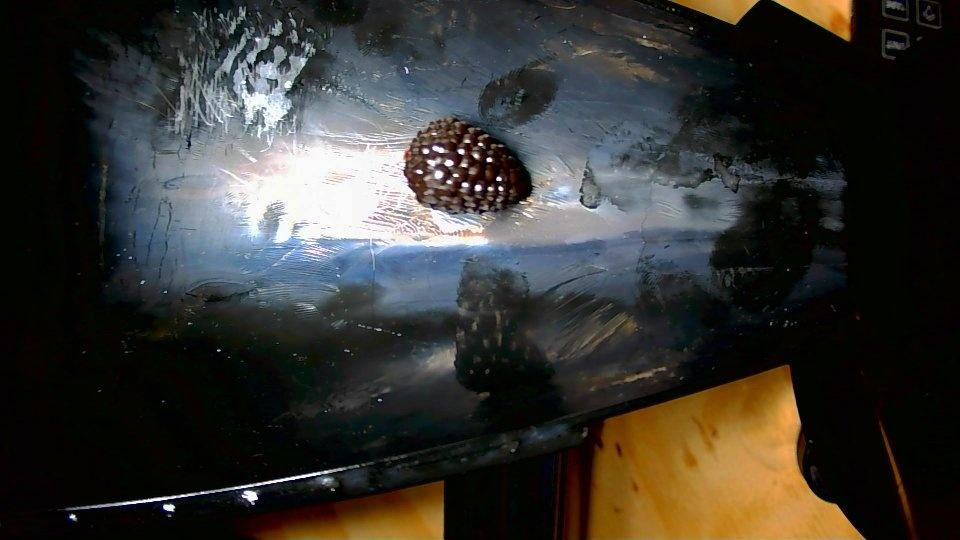berry: (404, 117, 531, 213)
